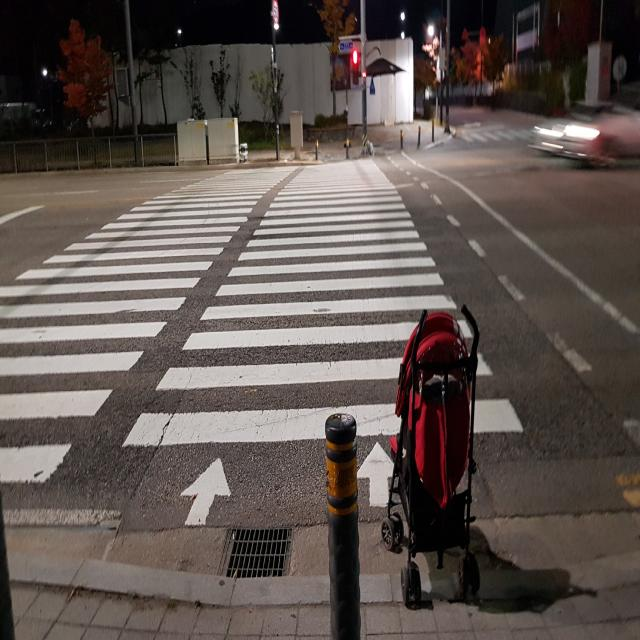빨간불: (351, 46, 362, 89)
횡단보도: (0, 163, 525, 524)
